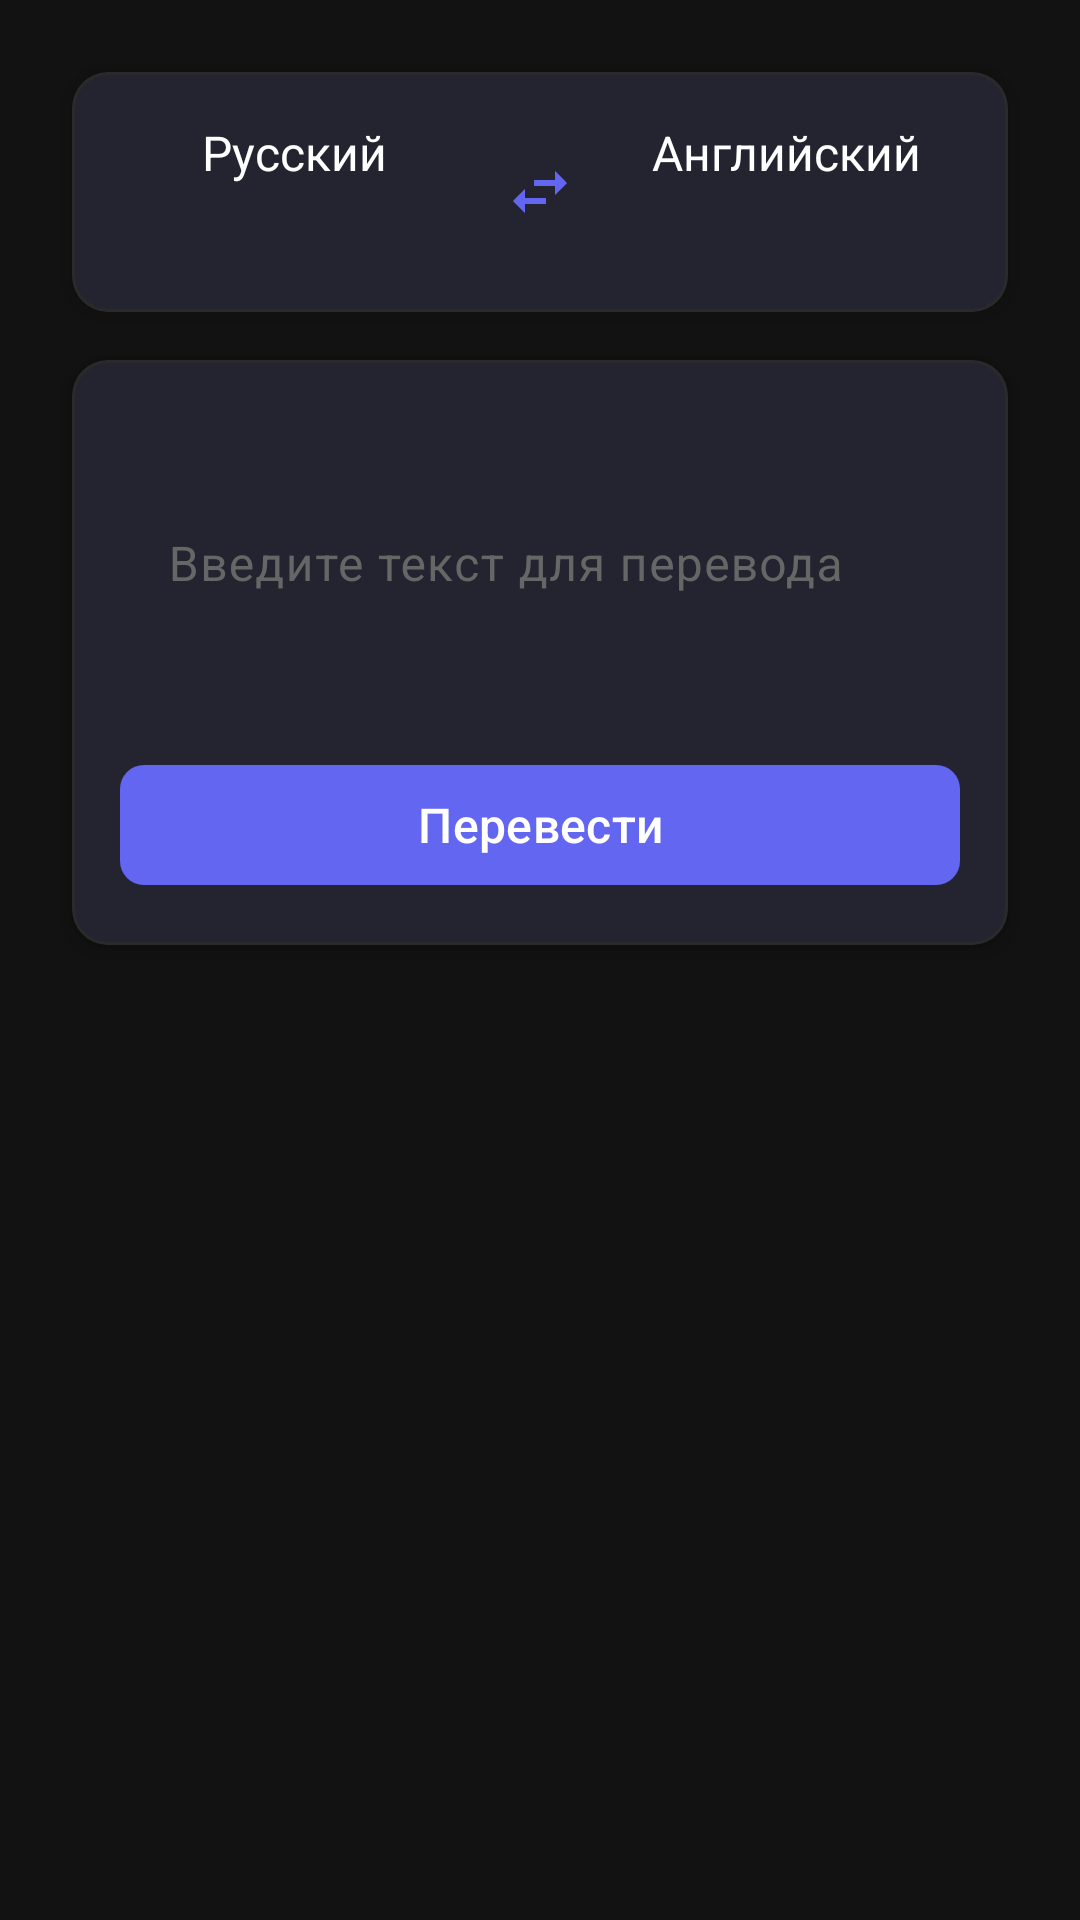

Screen size 1080w x 1920h. Icon name, then its center in pixels as point (x, y):
Поменять языки: point (540, 192)
